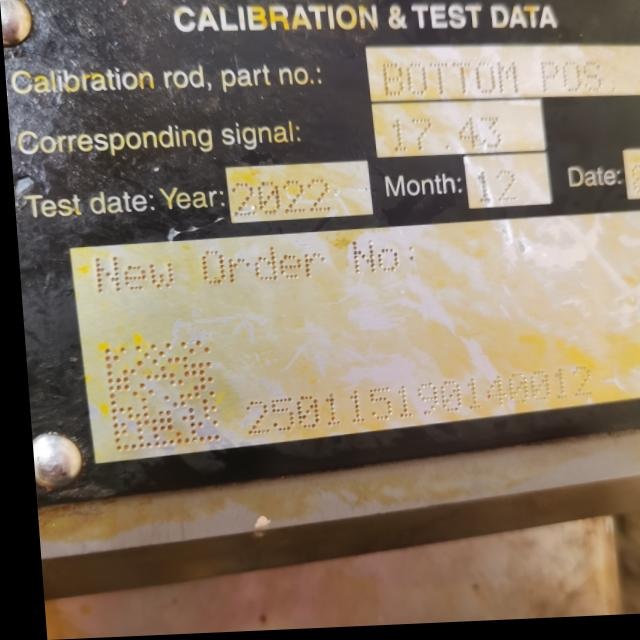dmc: (99, 341, 214, 453)
